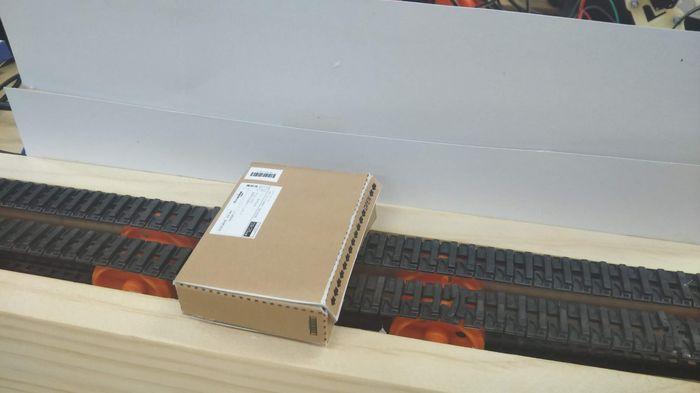box2: (175, 158, 378, 343)
